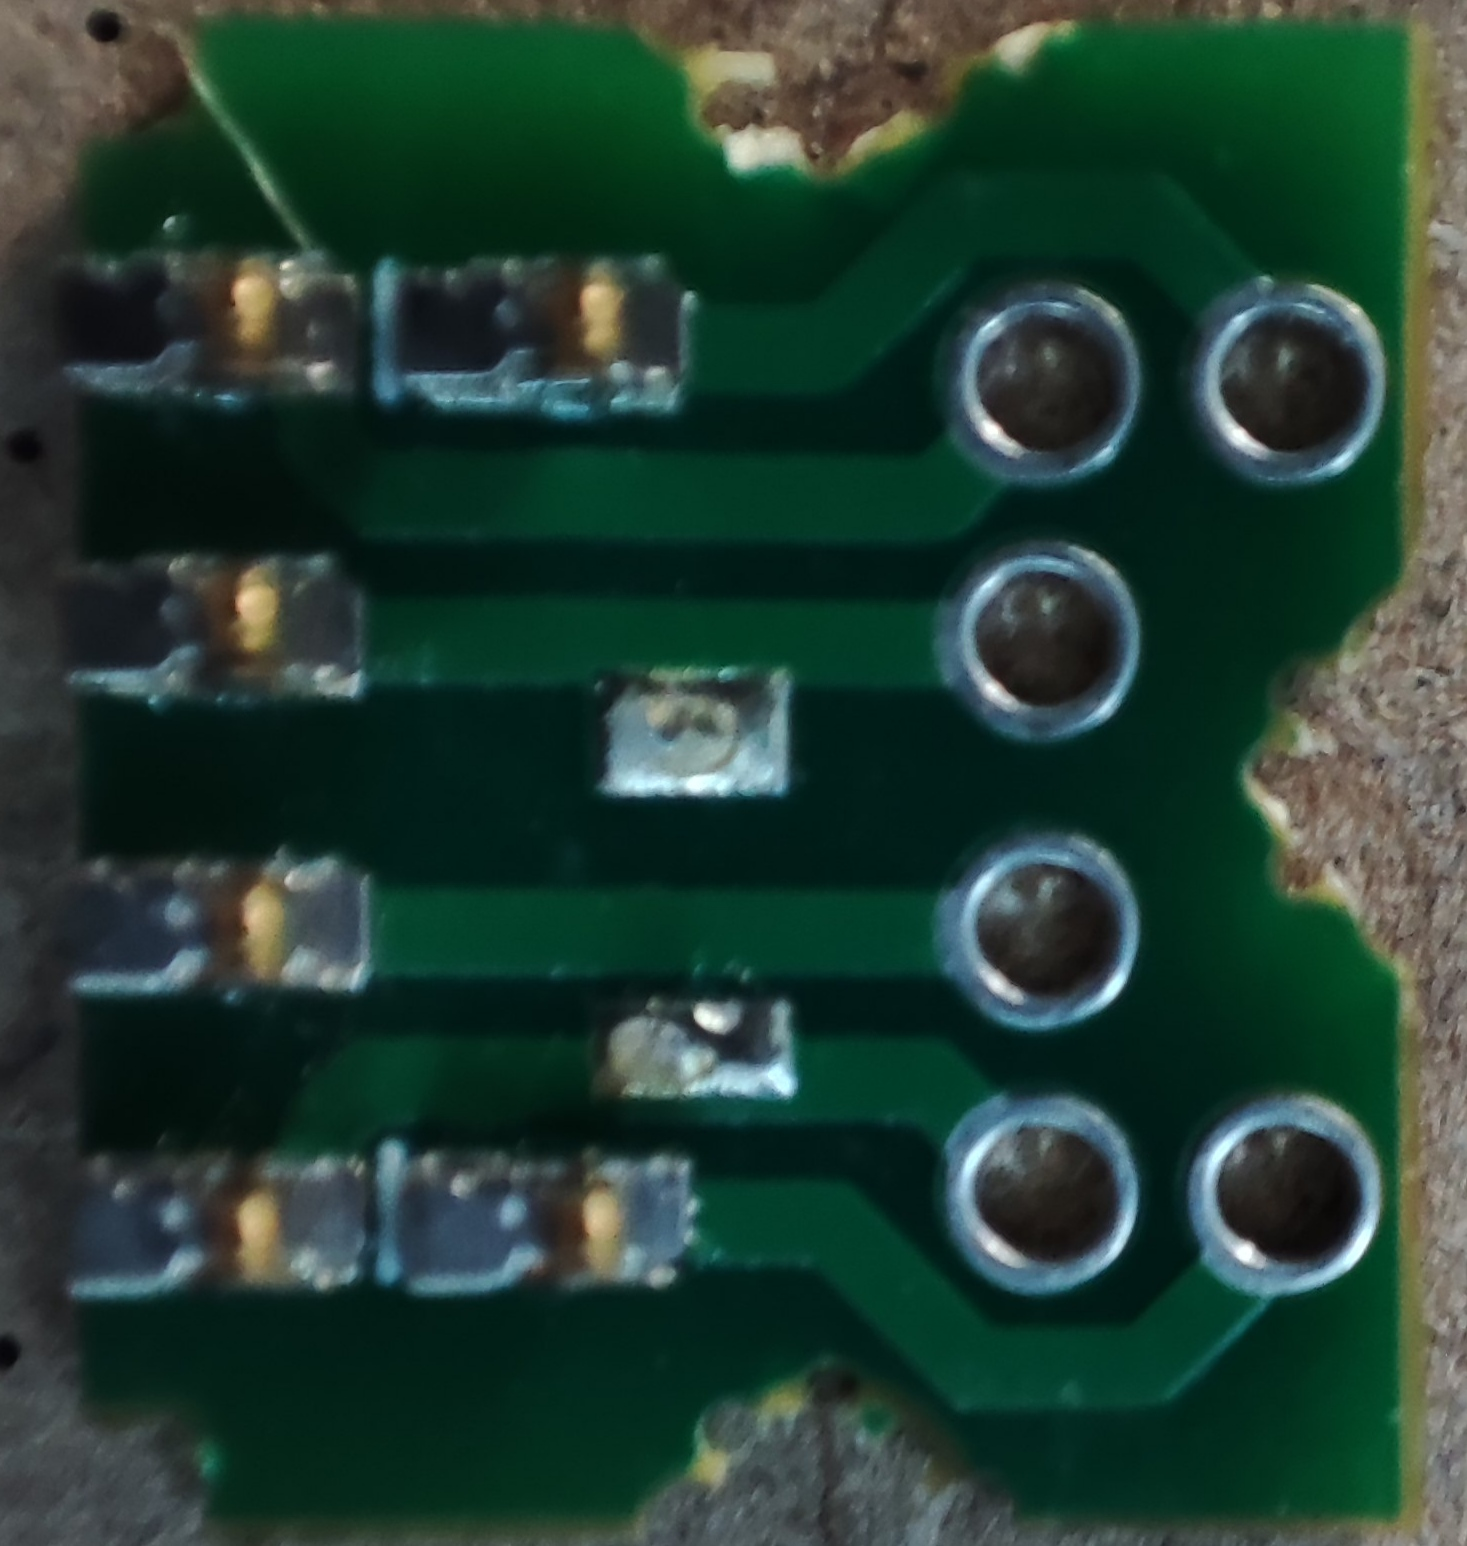PCB-MODEL-0: (8, 15, 1457, 1545)
normal-spring_finger: (37, 822, 423, 1022), (51, 523, 401, 736), (51, 1114, 381, 1329), (65, 215, 374, 444), (401, 215, 738, 422), (394, 1123, 722, 1323)
normal-through: (922, 536, 1187, 779), (931, 815, 1187, 1058), (1194, 1065, 1423, 1329), (922, 1087, 1173, 1323), (931, 265, 1173, 508), (1201, 265, 1394, 508)
